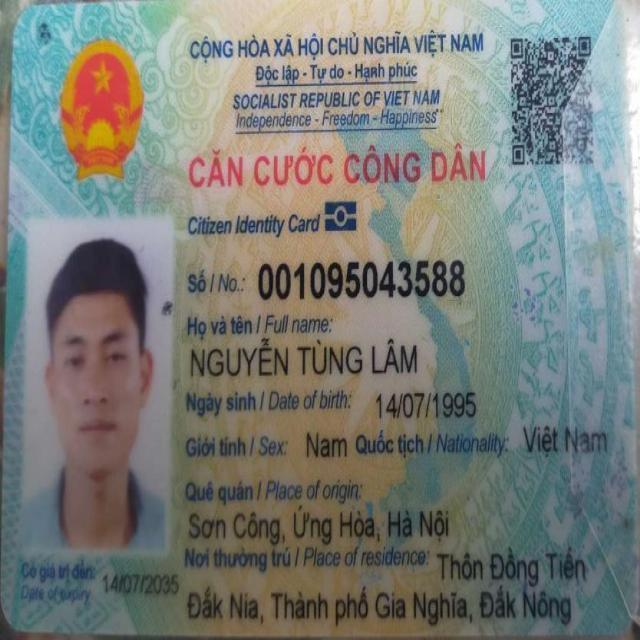current_place: (183, 583, 583, 630), (434, 546, 596, 591)
dob: (373, 385, 483, 425)
expire_date: (98, 563, 186, 598)
gender: (298, 423, 354, 462)
id: (252, 249, 473, 304)
name: (184, 336, 440, 381)
nationality: (519, 420, 614, 461)
origin_place: (180, 503, 457, 545)
